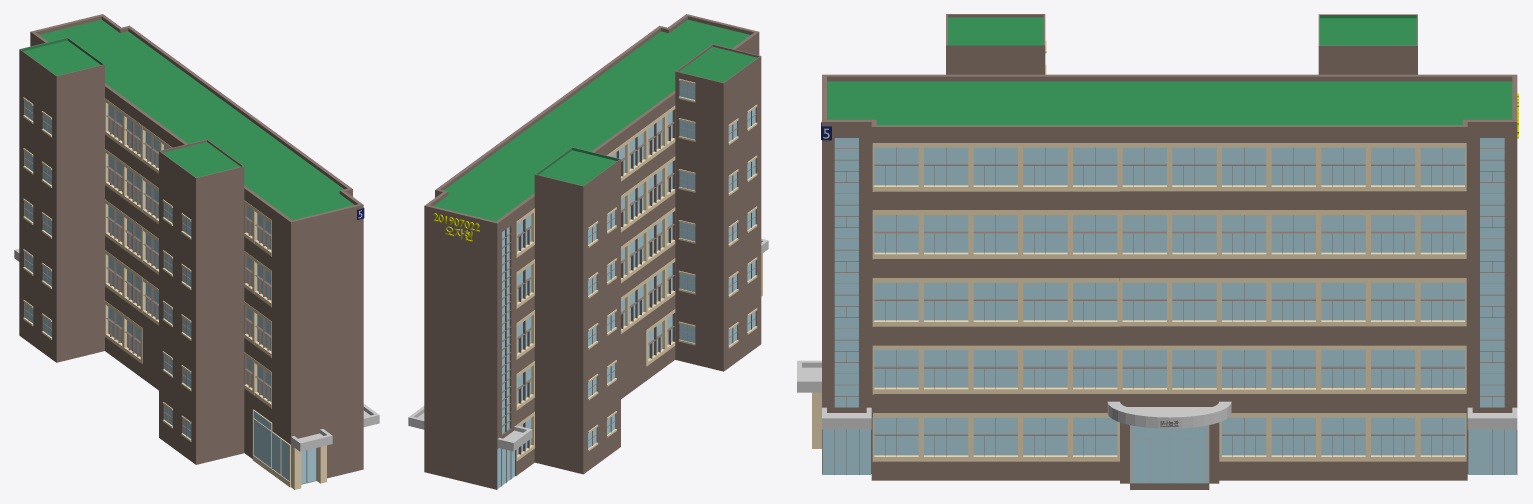
Rendered from 5building_7.glb.
The picture shows the model from 3 angles, left to right: view 1: azimuth 30°, elevation 25°; view 2: azimuth 150°, elevation 25°; view 3: azimuth 270°, elevation 25°; orthographic projection. The views are drawn at different scales.
Parts seen in each view (by area): view 1: main, Cube.007, Cube.018, sidebar-1, Cube.056, 후면창문, Cube.071, 안쪽창문, 안쪽창문.001, Plane.004, sidebar-2, Cube.051 (+5 smaller); view 2: main, Cube.018, Cube.007, sidebar-2, Cube.056, 후면창문, Cube.071, Cube.005, 안쪽창문, sidebar-1, 안쪽창문.001, Cube.004 (+5 smaller); view 3: main, 전면창문, Cube.068, Cube.071, sidebar-2, sidebar-1, Cube.002, Cube.003, Cube.007, Cube.018, Cube.008, Cylinder (+5 smaller).
Part boxes in pixels (box(x1,y1,x2,y2)): main: box(75, 31, 352, 458); Cube.007: box(159, 139, 244, 464); Cube.018: box(19, 37, 104, 362); sidebar-1: box(272, 195, 363, 484); Cube.056: box(104, 98, 271, 408); 후면창문: box(108, 104, 271, 401); Cube.071: box(30, 14, 363, 225); 안쪽창문: box(24, 100, 51, 336); 안쪽창문.001: box(164, 203, 191, 438); Plane.004: box(252, 409, 272, 473); sidebar-2: box(30, 19, 117, 46); Cube.051: box(271, 431, 290, 487); main: box(435, 31, 740, 475); Cube.018: box(534, 147, 620, 474); Cube.007: box(675, 44, 761, 371); sidebar-2: box(424, 196, 515, 489); Cube.056: box(516, 105, 675, 461); 후면창문: box(517, 111, 672, 454); Cube.071: box(424, 14, 759, 226); Cube.005: box(679, 81, 695, 342); 안쪽창문: box(588, 211, 615, 448); sidebar-1: box(671, 19, 759, 55); 안쪽창문.001: box(728, 108, 755, 345); Cube.004: box(502, 227, 509, 433); main: box(871, 81, 1467, 480); 전면창문: box(874, 147, 1464, 455); Cube.068: box(872, 143, 1466, 461); Cube.071: box(822, 74, 1517, 131); sidebar-2: box(1467, 81, 1517, 474); sidebar-1: box(822, 81, 871, 474); Cube.002: box(832, 138, 861, 429); Cube.003: box(1480, 138, 1504, 407); Cube.007: box(946, 14, 1045, 74); Cube.018: box(1318, 14, 1417, 74); Cube.008: box(1132, 425, 1206, 482); Cylinder: box(1107, 401, 1231, 428).
Size of the model in its own units: 95.6 by 170 by 291.
